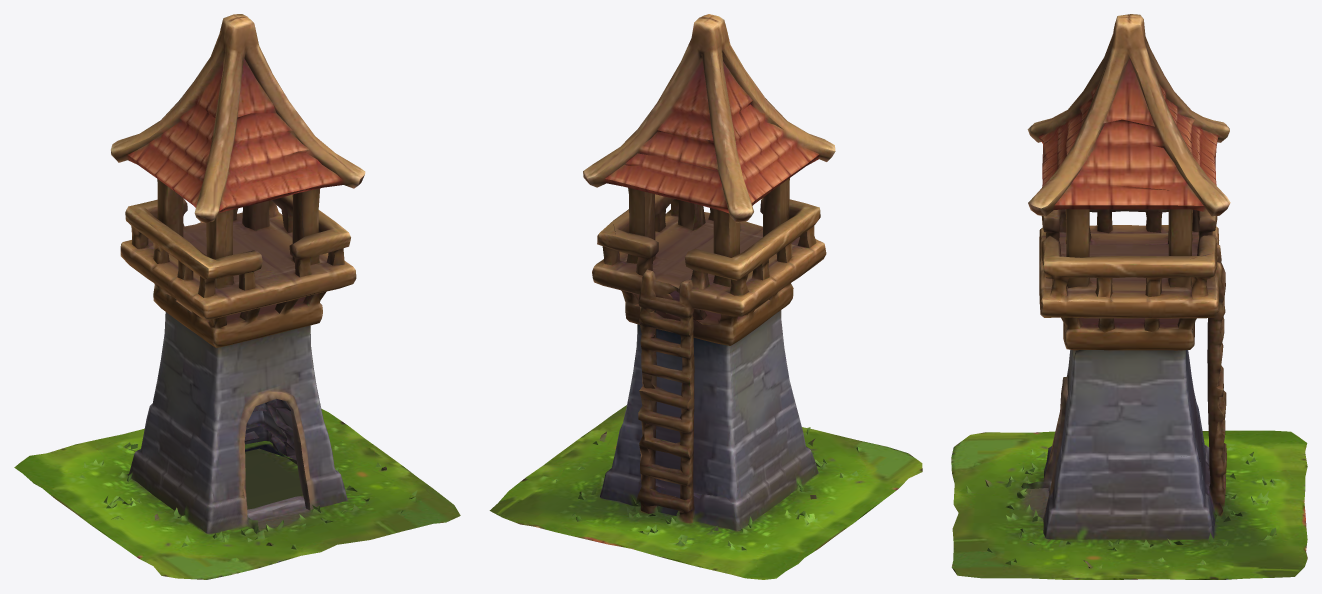
Rendered from watchtower.glb.
3 views of the same model, side by side, from view 1: azimuth 30°, elevation 25°; view 2: azimuth 150°, elevation 25°; view 3: azimuth 270°, elevation 25° (orthographic). The views are drawn at different scales.
Parts seen in each view (by area): view 1: world; view 2: world; view 3: world.
Part boxes in pixels (bbox=[...]): world: bbox=[14, 14, 460, 579]; world: bbox=[489, 14, 922, 579]; world: bbox=[951, 14, 1307, 579].
Size of the model in its own units: 0.6442 by 1 by 0.6533.
Materials: 1 (1 with a texture image).
